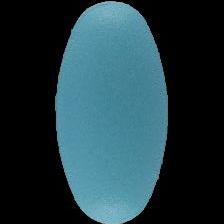0093-3044: (0, 0, 224, 224)
